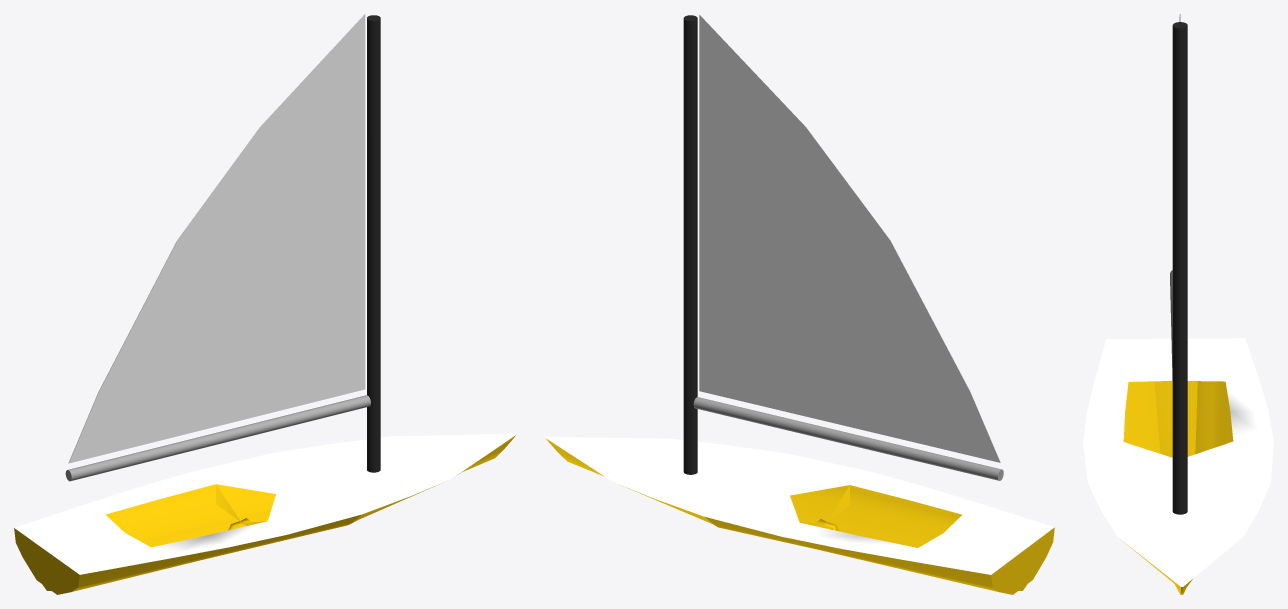
The picture shows the model from 3 angles, left to right: view 1: azimuth 30°, elevation 25°; view 2: azimuth 150°, elevation 25°; view 3: azimuth 270°, elevation 25°; orthographic projection. The views are drawn at different scales.
Parts seen in each view (by area): view 1: sail_sail_color_0, Laserhull, mast, bottom_part; view 2: sail_sail_color_0, Laserhull, mast, bottom_part; view 3: Laserhull, mast.
Part boxes in pixels (<box>): sail_sail_color_0: <box>68,14,365,463</box>; Laserhull: <box>14,433,516,594</box>; mast: <box>367,15,380,472</box>; bottom_part: <box>65,395,370,481</box>; sail_sail_color_0: <box>699,14,1000,462</box>; Laserhull: <box>545,437,1054,594</box>; mast: <box>683,15,697,474</box>; bottom_part: <box>693,397,1003,480</box>; Laserhull: <box>1083,338,1273,594</box>; mast: <box>1172,22,1187,514</box>.
Size of the model in its own units: 6.77 by 6.8 by 2.19.
